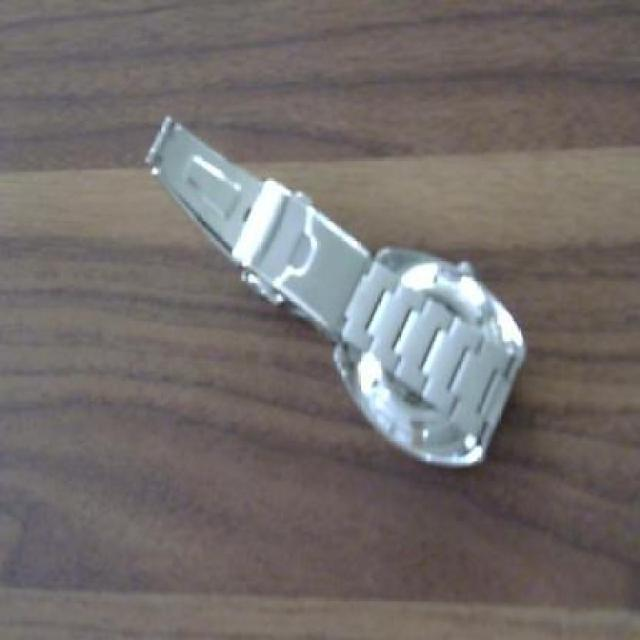Metal: (141, 110, 533, 478)
